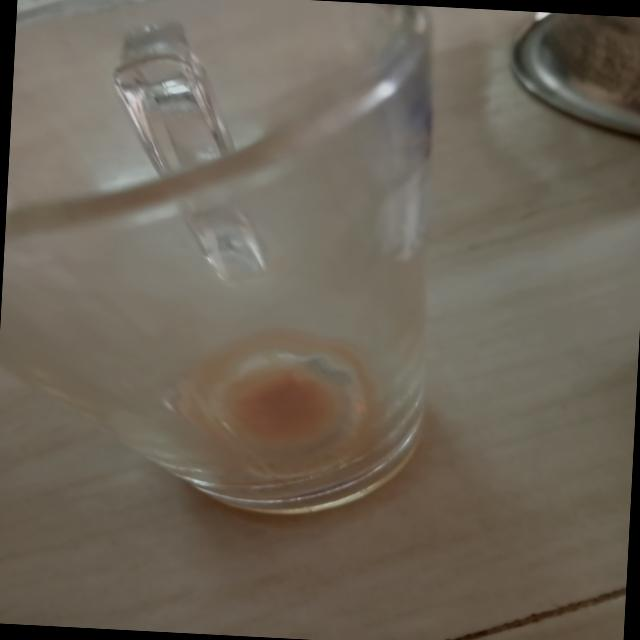glass-VX4N: (0, 0, 465, 527)
